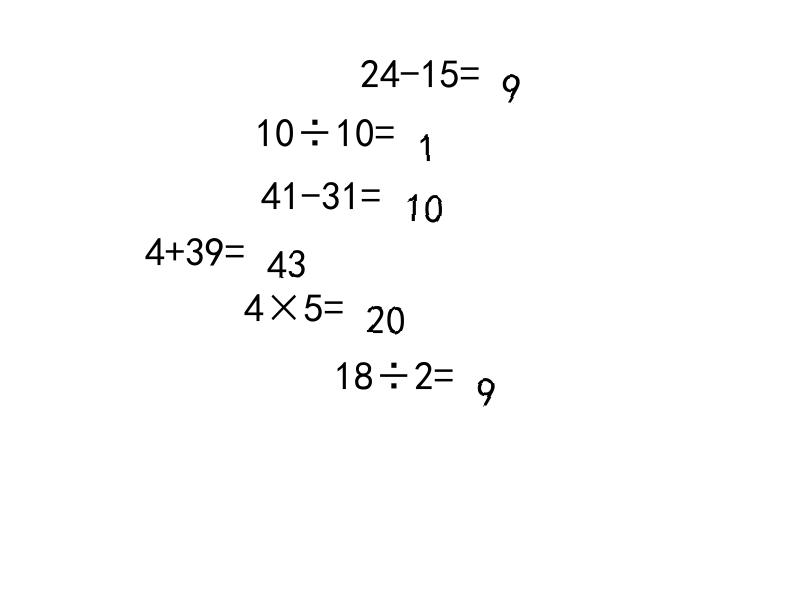+: (165, 231, 185, 260)
-: (400, 53, 420, 82), (301, 175, 321, 204)
0: (275, 112, 295, 141), (355, 112, 375, 141), (411, 175, 431, 204), (374, 287, 394, 315)
1: (420, 53, 440, 82), (255, 112, 275, 141), (335, 112, 355, 141), (405, 112, 425, 141), (281, 175, 301, 204), (341, 175, 361, 204), (391, 175, 411, 204), (334, 355, 354, 384)
2: (360, 53, 380, 82), (414, 355, 434, 384), (354, 287, 374, 315)
3: (321, 175, 341, 204), (185, 231, 205, 260), (275, 231, 295, 260)
4: (380, 53, 400, 82), (261, 175, 281, 204), (145, 231, 165, 260), (255, 231, 275, 260), (244, 287, 264, 315)
5: (440, 53, 460, 82), (304, 287, 324, 315)
8: (354, 355, 374, 384)
9: (490, 53, 510, 82), (205, 231, 225, 260), (464, 355, 484, 384)
=: (460, 53, 480, 82), (375, 112, 395, 141), (361, 175, 381, 204), (225, 231, 245, 260), (434, 355, 454, 384), (324, 287, 344, 315)
×: (264, 287, 304, 315)
÷: (295, 112, 335, 141), (374, 355, 414, 384)
